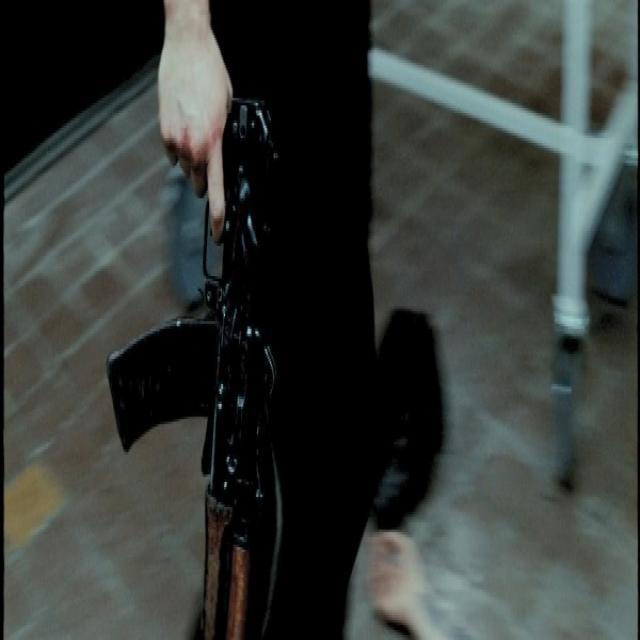rifle: (102, 88, 285, 639)
